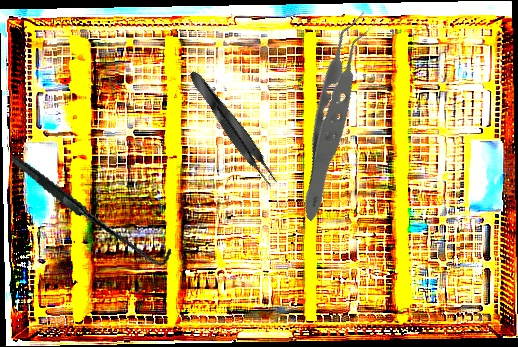Hook Surgical: (11, 123, 174, 295)
Tissue Forceps: (230, 7, 446, 224), (184, 66, 282, 190)
